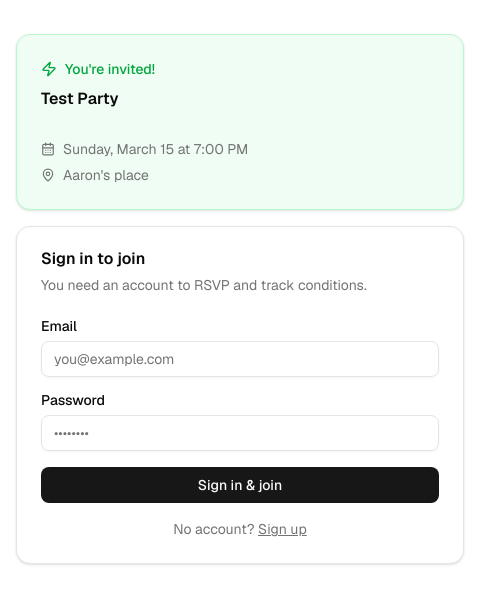
ClaimInvite › login flow › shows error when login fails
Step 1. Type "bad@test.com" into the field with placeholder "you@example.com" → {"x": 240, "y": 359}, box [41,341,439,377]
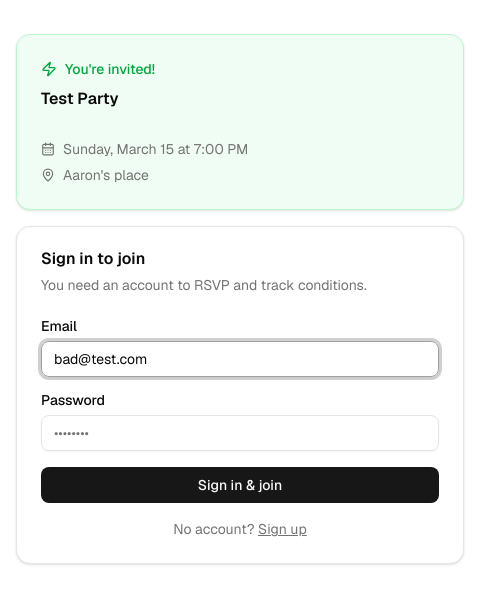
Step 2. Type "wrongpass" into the password field with placeholder "••••••••" → {"x": 240, "y": 433}, box [41,415,439,451]
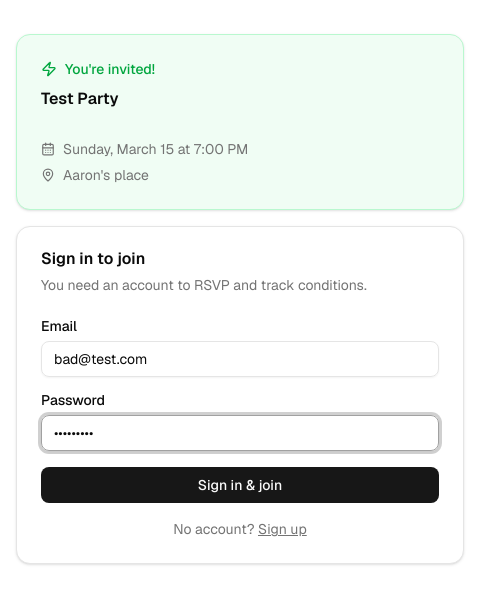
Step 3. Click the button "Sign in & join" → {"x": 240, "y": 485}, box [41,467,439,503]
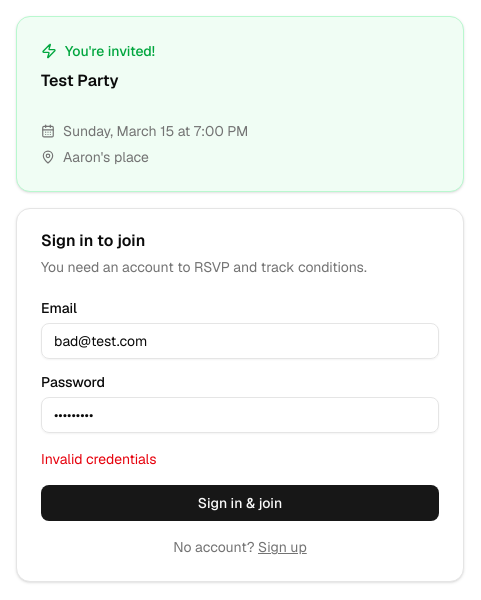
Check: the text "Invalid credentials" is shown, box [41,450,156,468]
